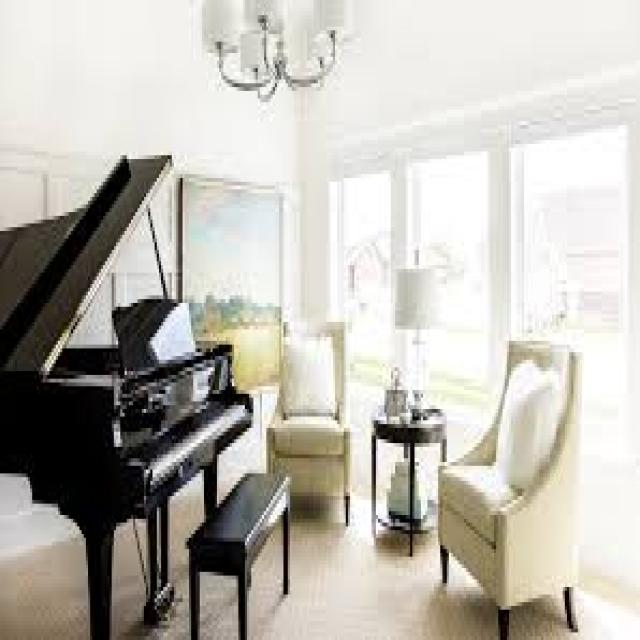Chair: (441, 336, 591, 610), (270, 308, 350, 531)
Lamp: (194, 0, 352, 102), (392, 248, 438, 388)
Table: (192, 470, 290, 634), (370, 387, 445, 552)
